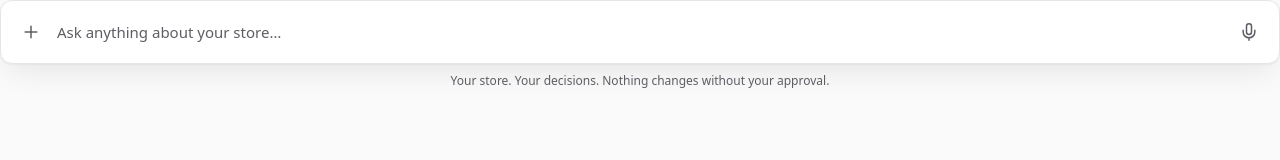
Test case: the composer › records a spoken question with its waveform, then sends it
What coordinates should you click on to do the following:
click the button named "Ask by voice"
I would click on:
 (1249, 32)
Its box is [1239, 22, 1259, 42].
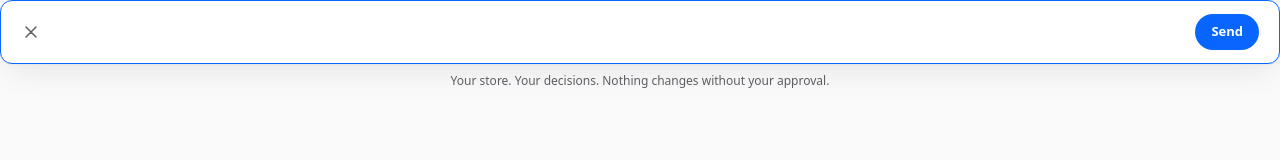
What coordinates should you click on to do the following:
click the button "Send"
I would click on:
 (1227, 32)
Its box is [1195, 14, 1259, 50].
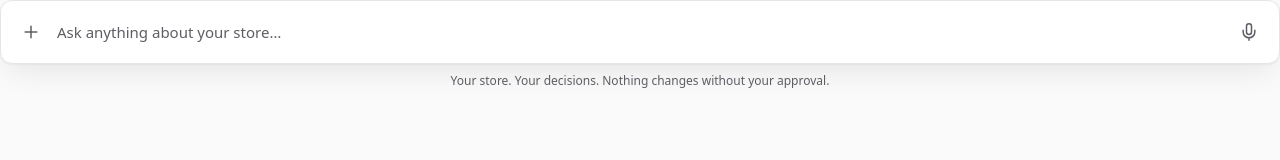
Expected: the field is shown, [57, 20, 1223, 44]
